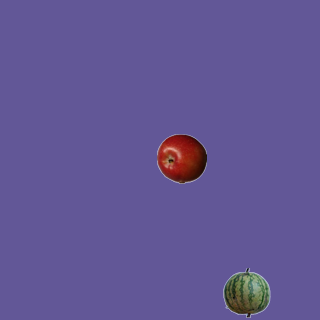Apple Braeburn: (156, 133, 206, 183)
Watermelon: (221, 267, 271, 317)
